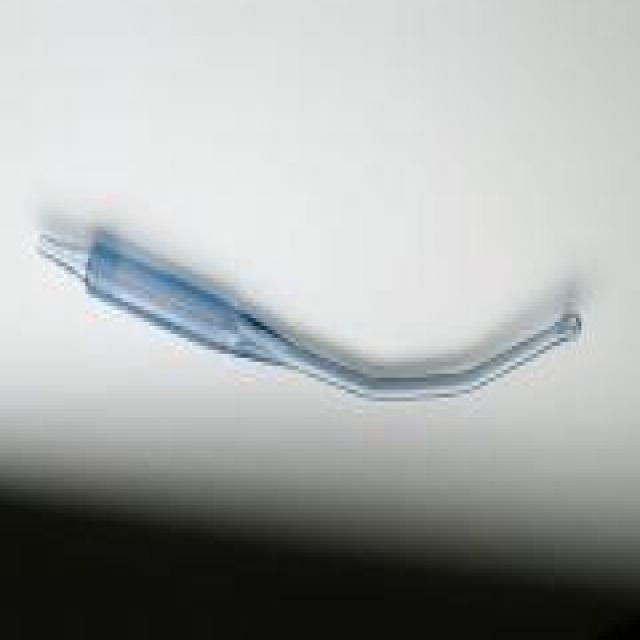Yankauer: (32, 226, 587, 410)
